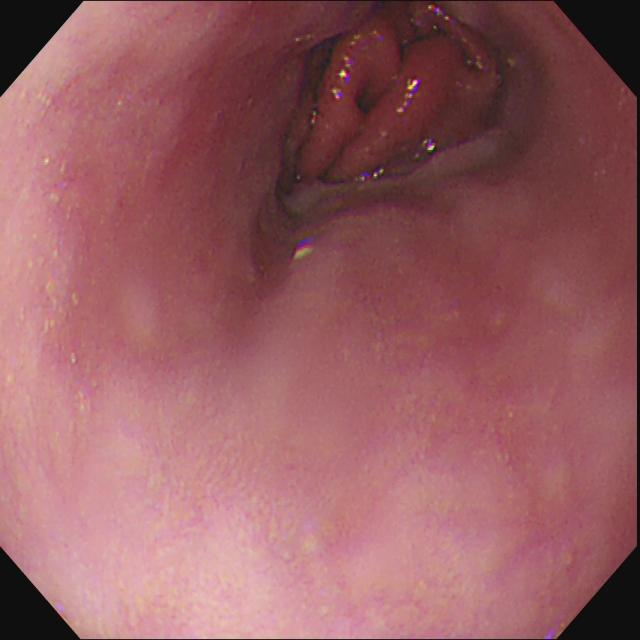I: (298, 6, 505, 199)
U: (395, 78, 420, 116), (293, 237, 315, 260), (338, 56, 353, 81), (424, 139, 436, 155)
